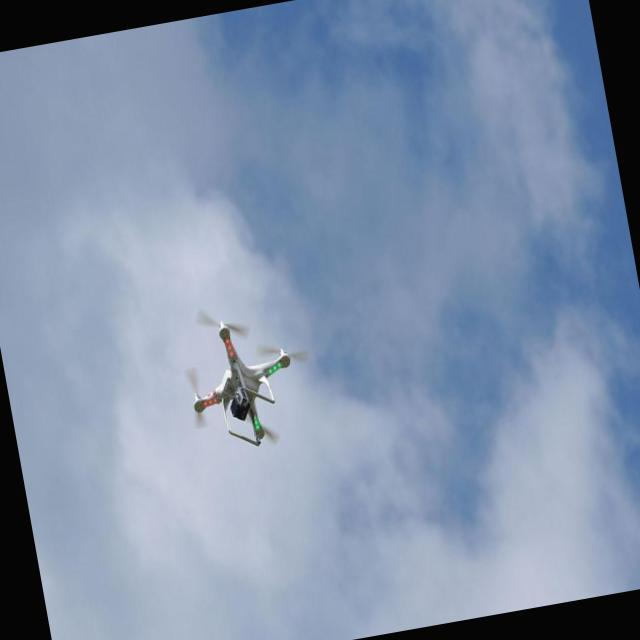drone: (177, 309, 306, 457)
